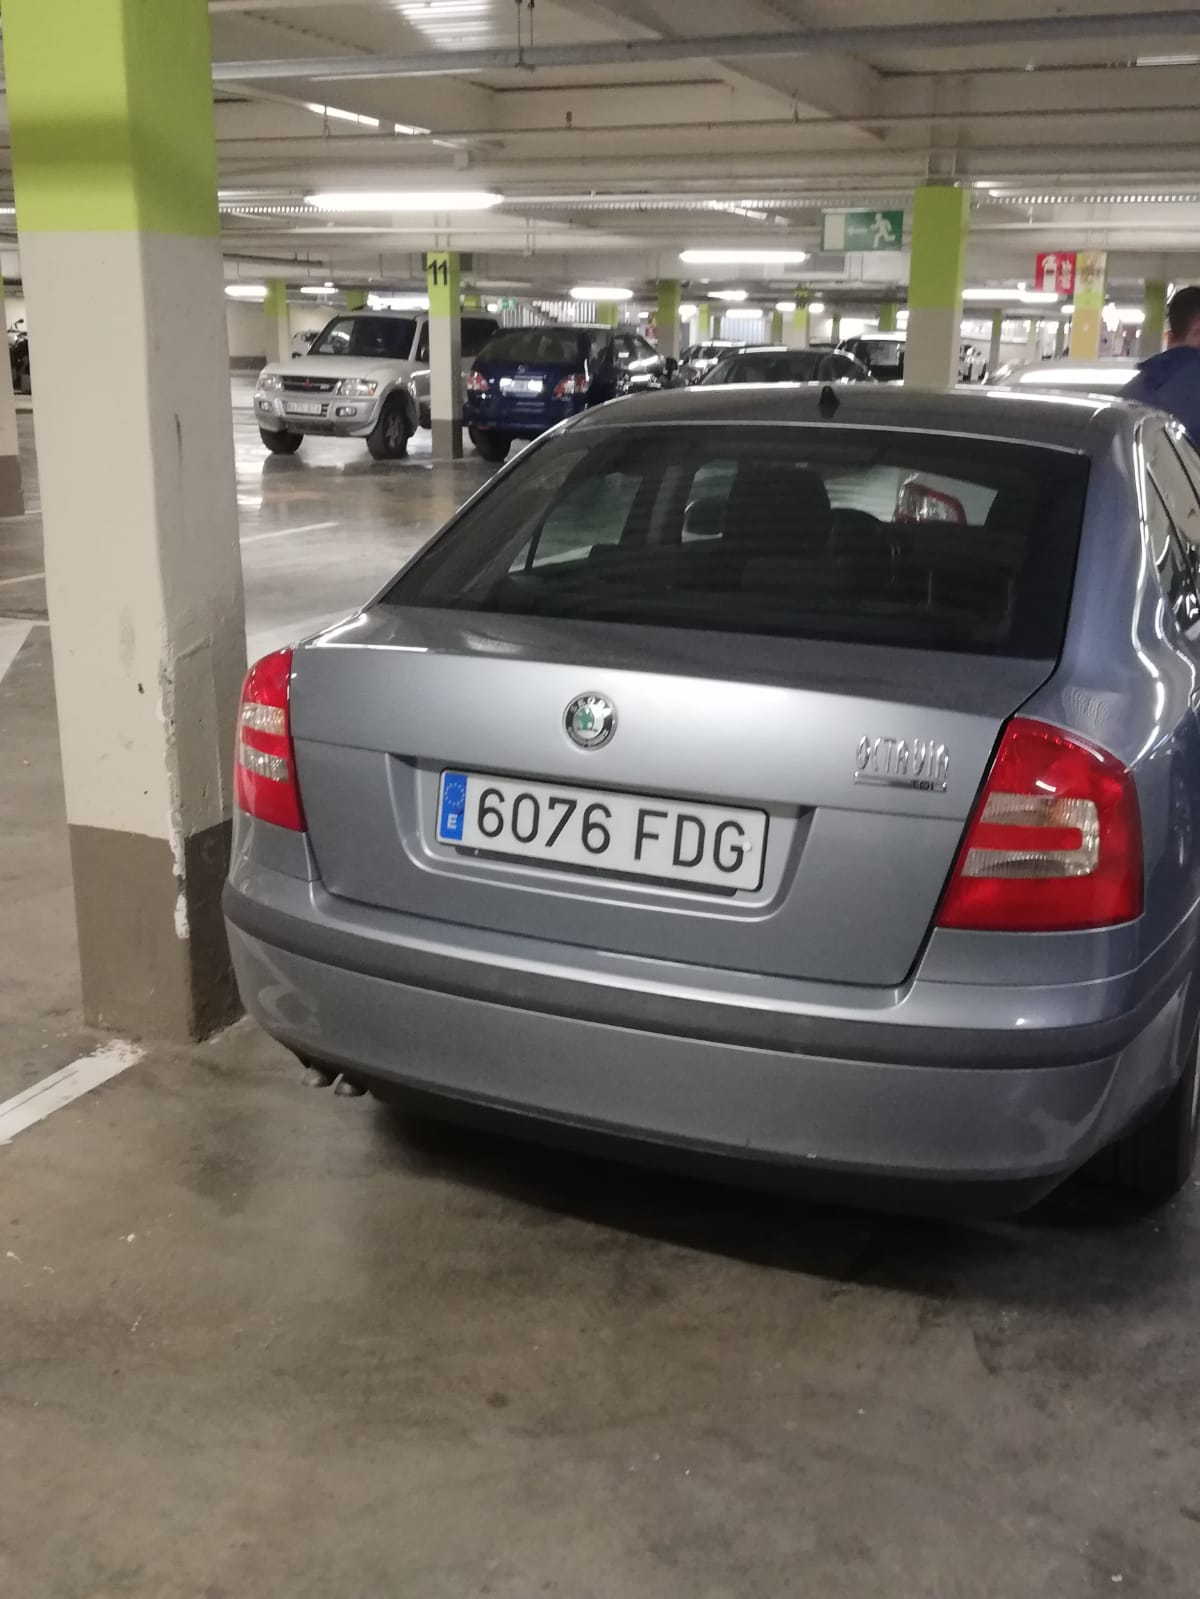Car: (222, 378, 1199, 1241)
Plate: (445, 759, 774, 851)
